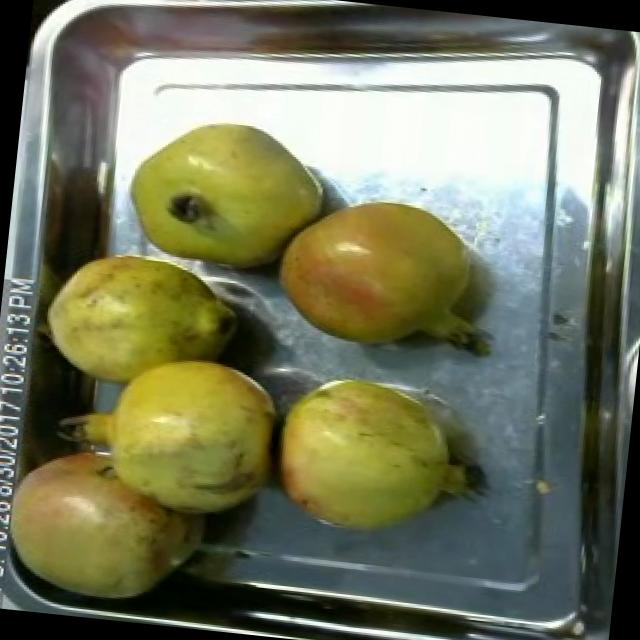fruit: (70, 328, 305, 558), (245, 354, 496, 558), (255, 180, 494, 367), (104, 100, 340, 288), (0, 418, 217, 621), (25, 237, 256, 412)
